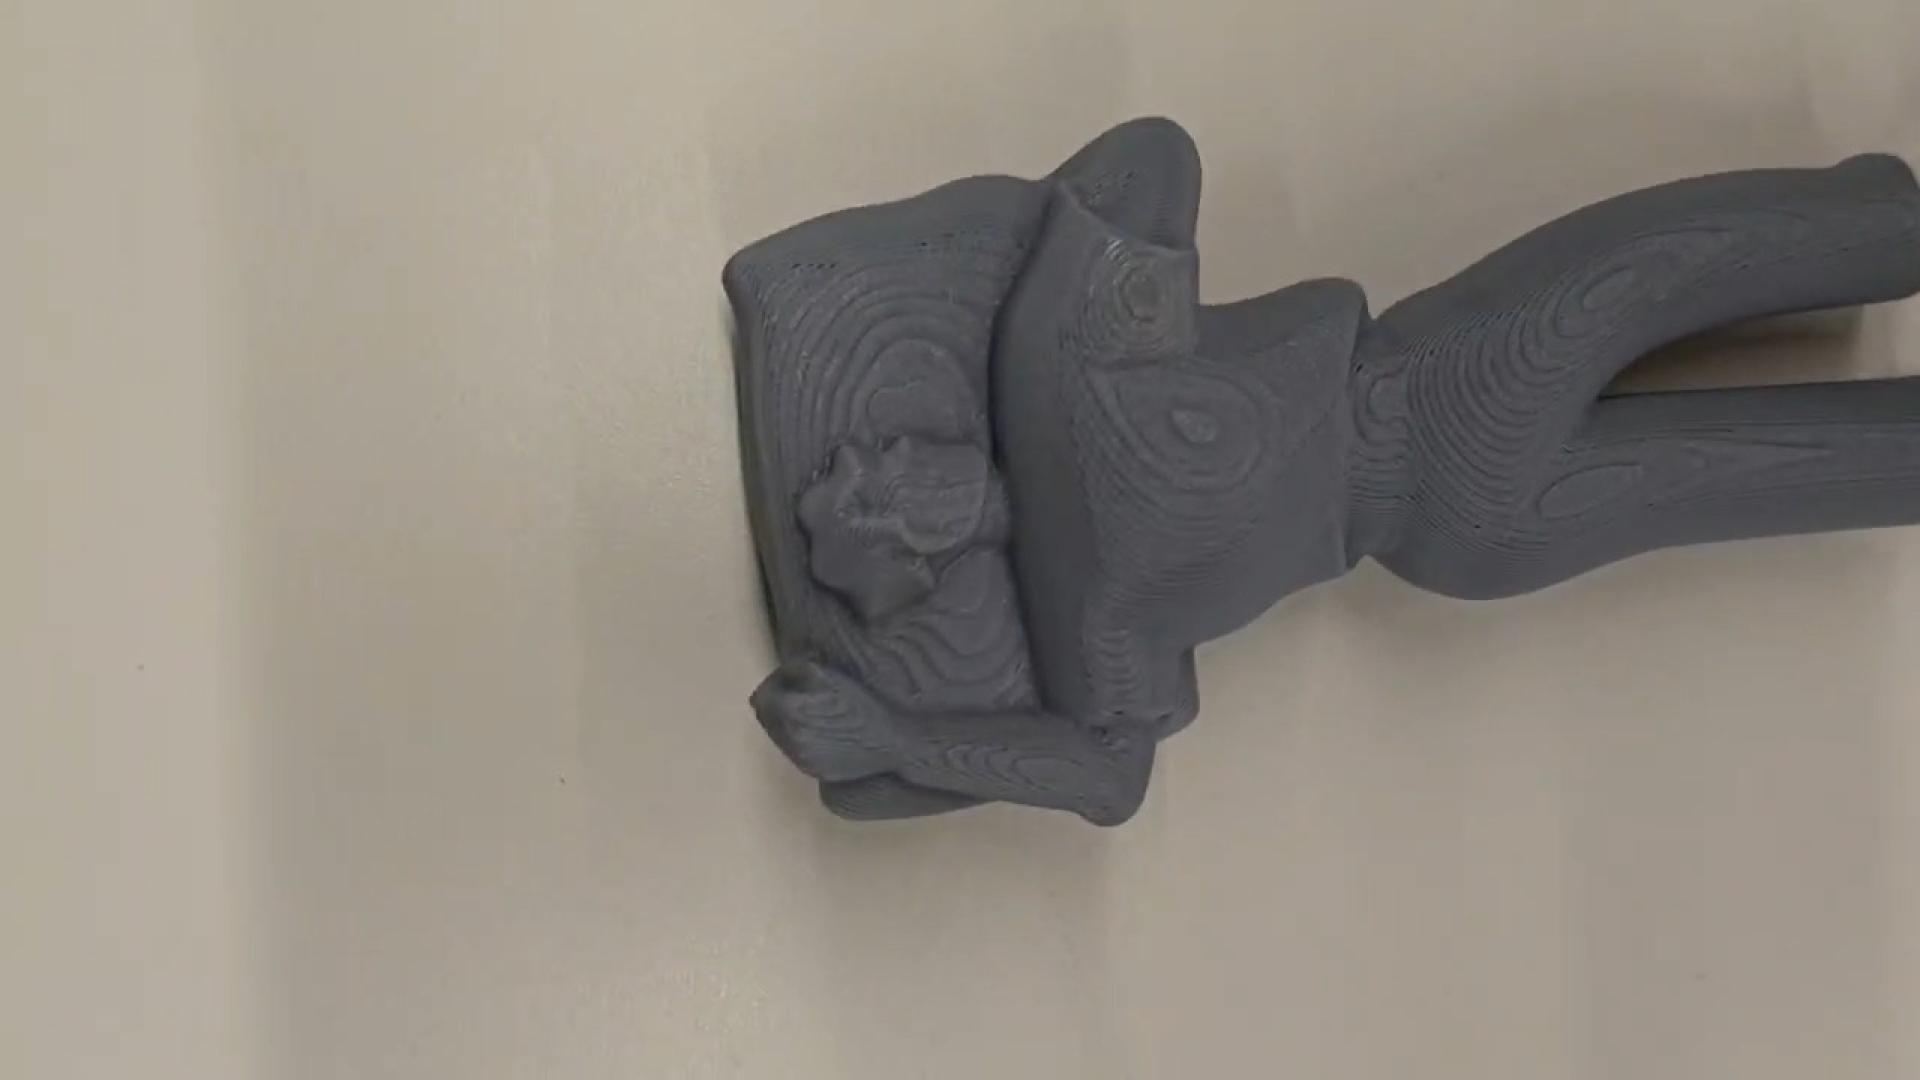Bad-style: (733, 112, 1920, 832)
